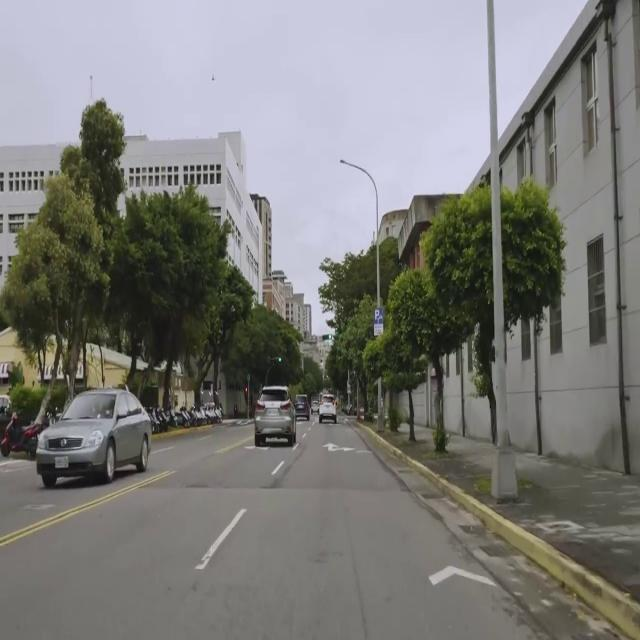green light: (322, 334, 332, 341), (274, 356, 281, 363)
